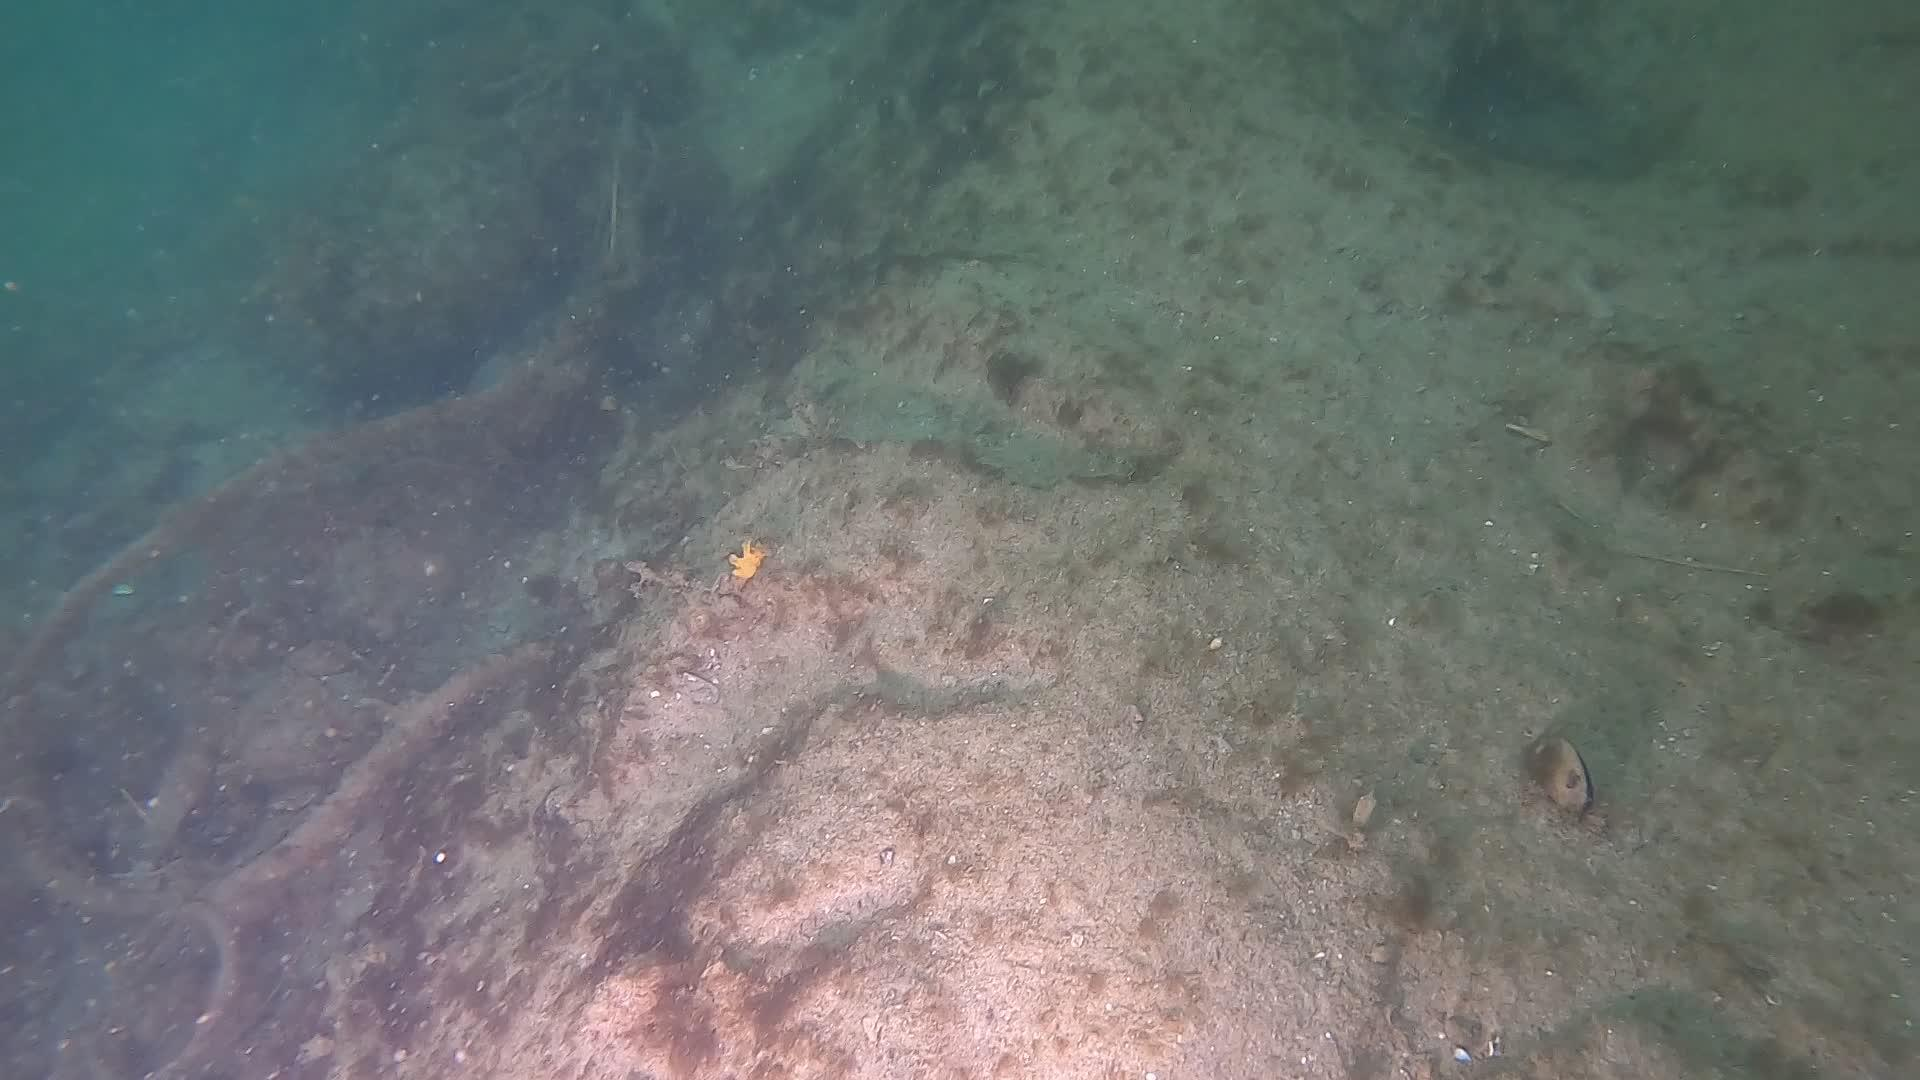rope: (0, 338, 574, 918)
